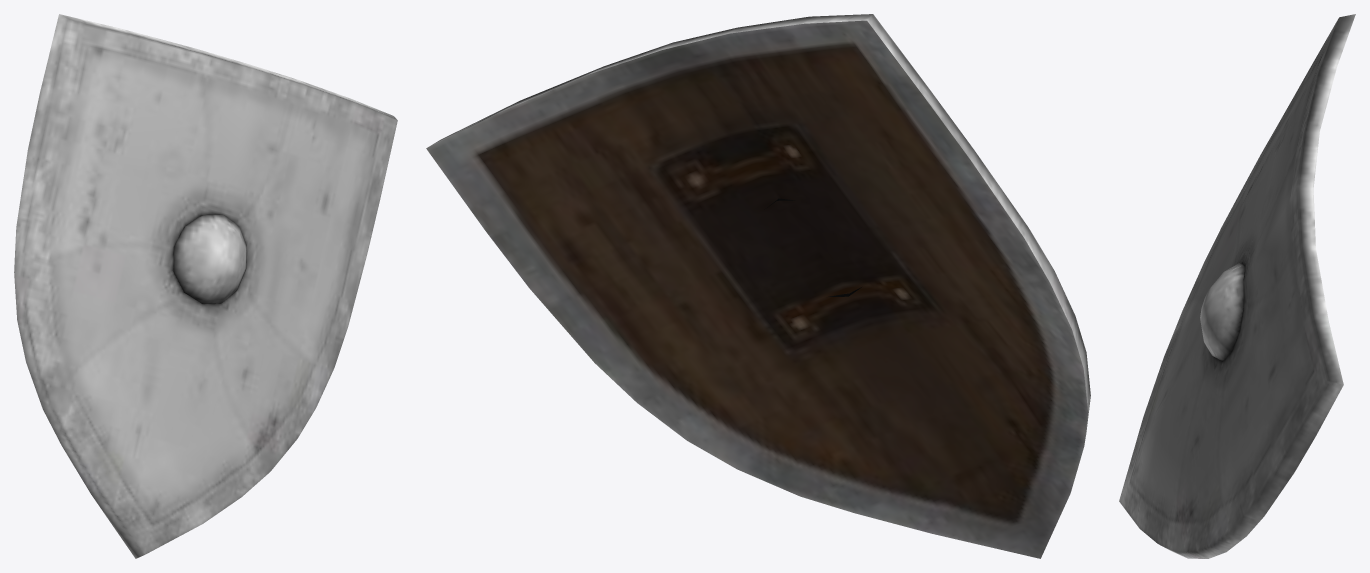
Rendered from shield-bronzeshields.glb.
3 views of the same model, side by side, from view 1: azimuth 30°, elevation 25°; view 2: azimuth 150°, elevation 25°; view 3: azimuth 270°, elevation 25° (orthographic). The views are drawn at different scales.
Size of the model in its own units: 0.7428 by 0.774 by 0.3273.
Materials: 1 (1 with a texture image).
